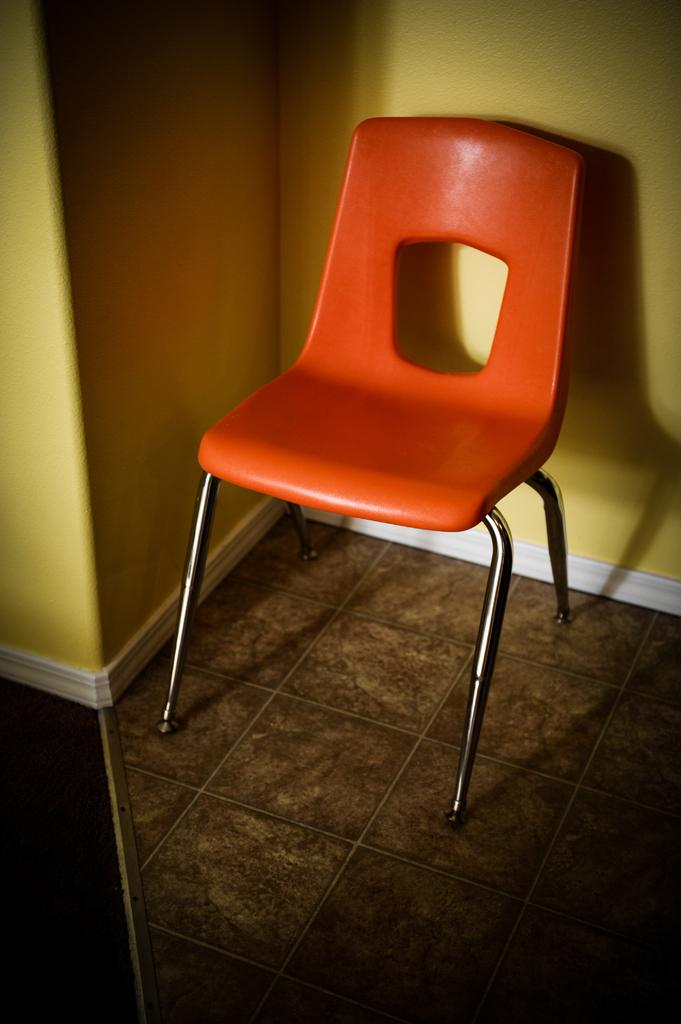Chair: (146, 114, 599, 897)
